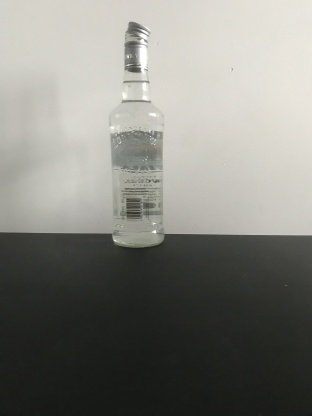nakretka: (122, 19, 152, 72)
